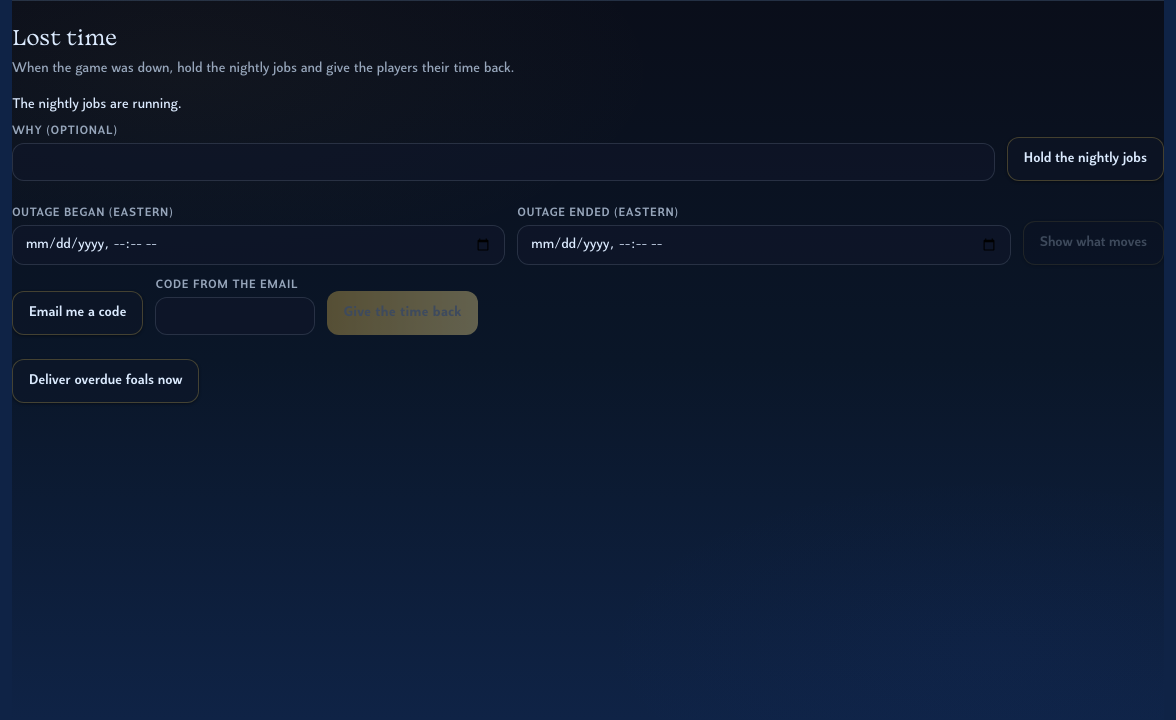
StaffOutage › holds and releases the nightly jobs, and the line beside it changes
The width and height of the screenshot is (1176, 720).
Expected: the text "The nightly jobs are running." is shown, top-left (12, 97), bottom-right (181, 112)
Type "Server down" into the field labelled "Why (optional)".
click(503, 162); type("Server down")  # box top-left (12, 143), bottom-right (995, 181)
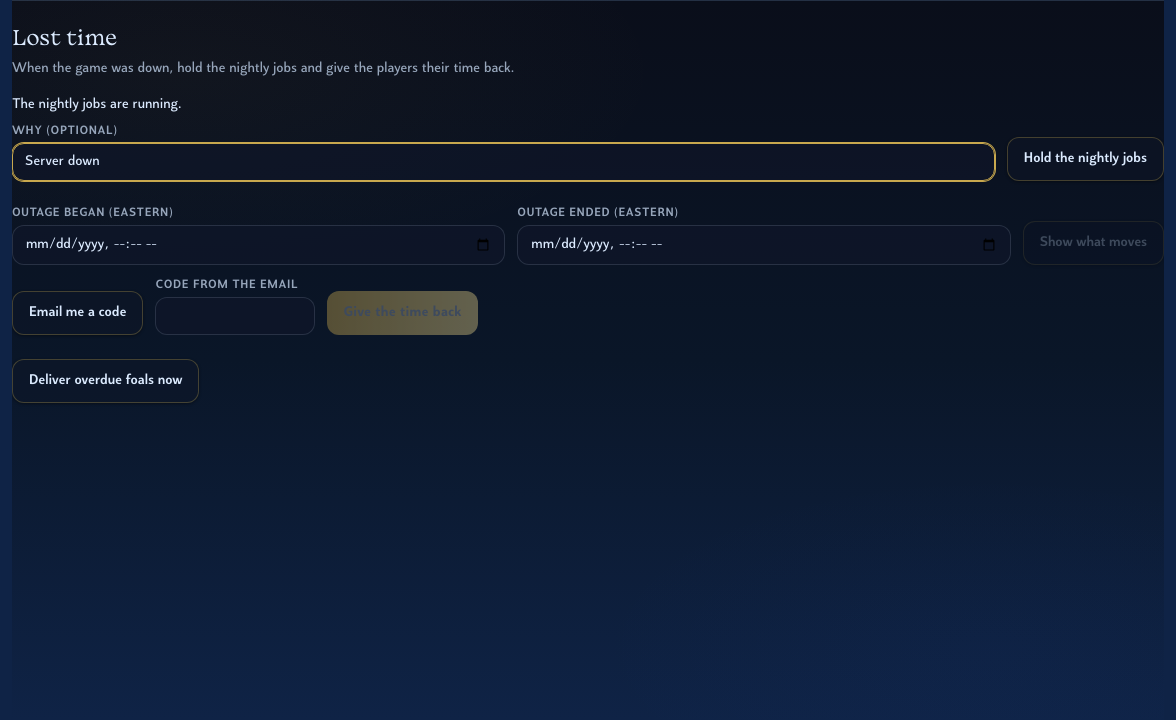
Click the button "Hold the nightly jobs".
click(1085, 159)  # box top-left (1007, 137), bottom-right (1164, 181)
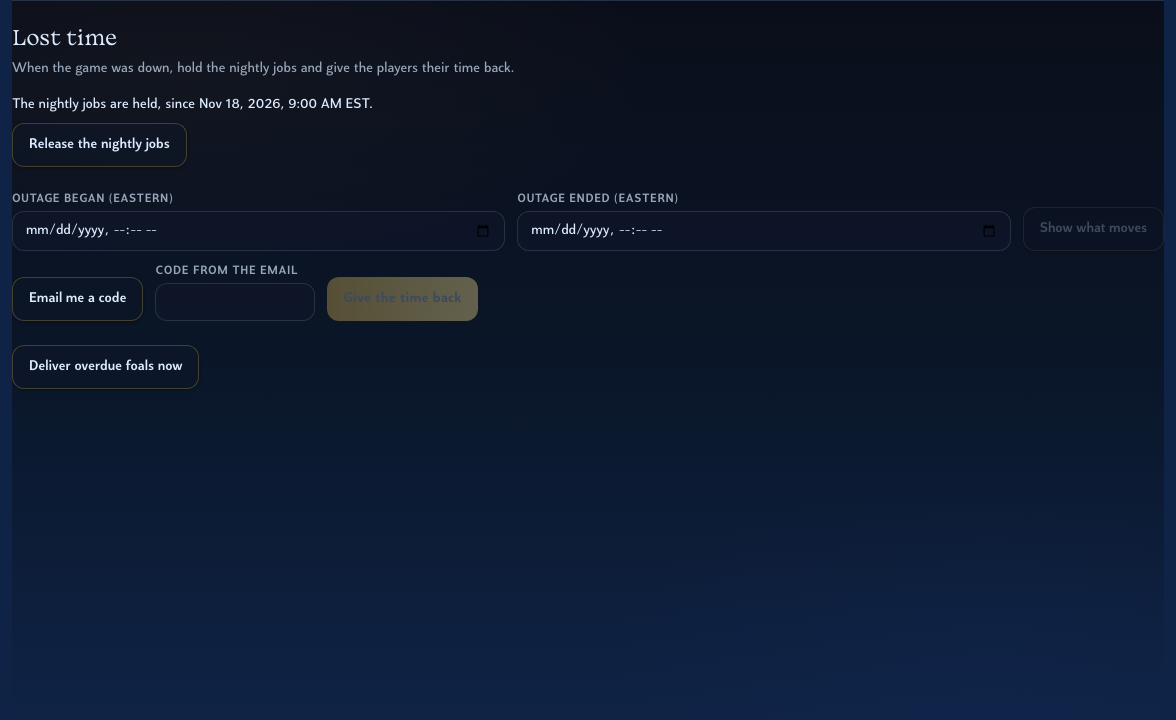
Expected: the text "The nightly jobs are held, since Nov 18, 2026, 9:00 AM EST." is shown, top-left (12, 97), bottom-right (373, 112)
Click the button "Release the nightly jobs".
click(99, 145)  # box top-left (12, 123), bottom-right (187, 167)
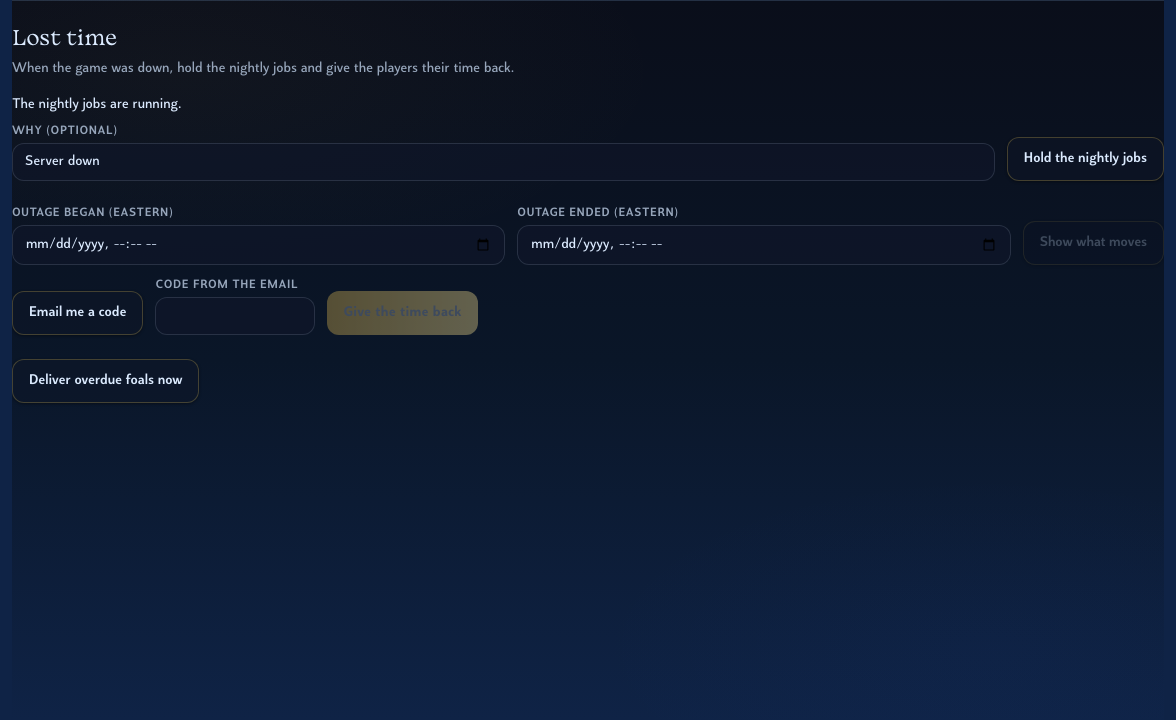
Expected: the text "The nightly jobs are running." is shown, top-left (12, 97), bottom-right (181, 112)
